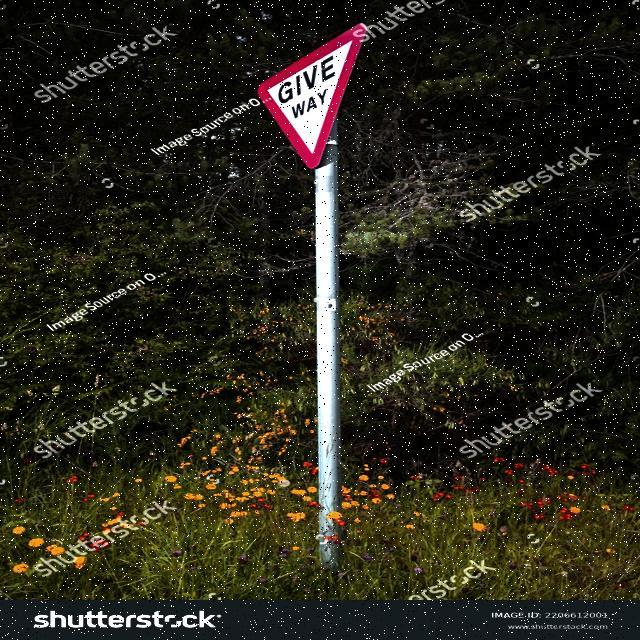Traffic sign: (254, 19, 372, 173)
